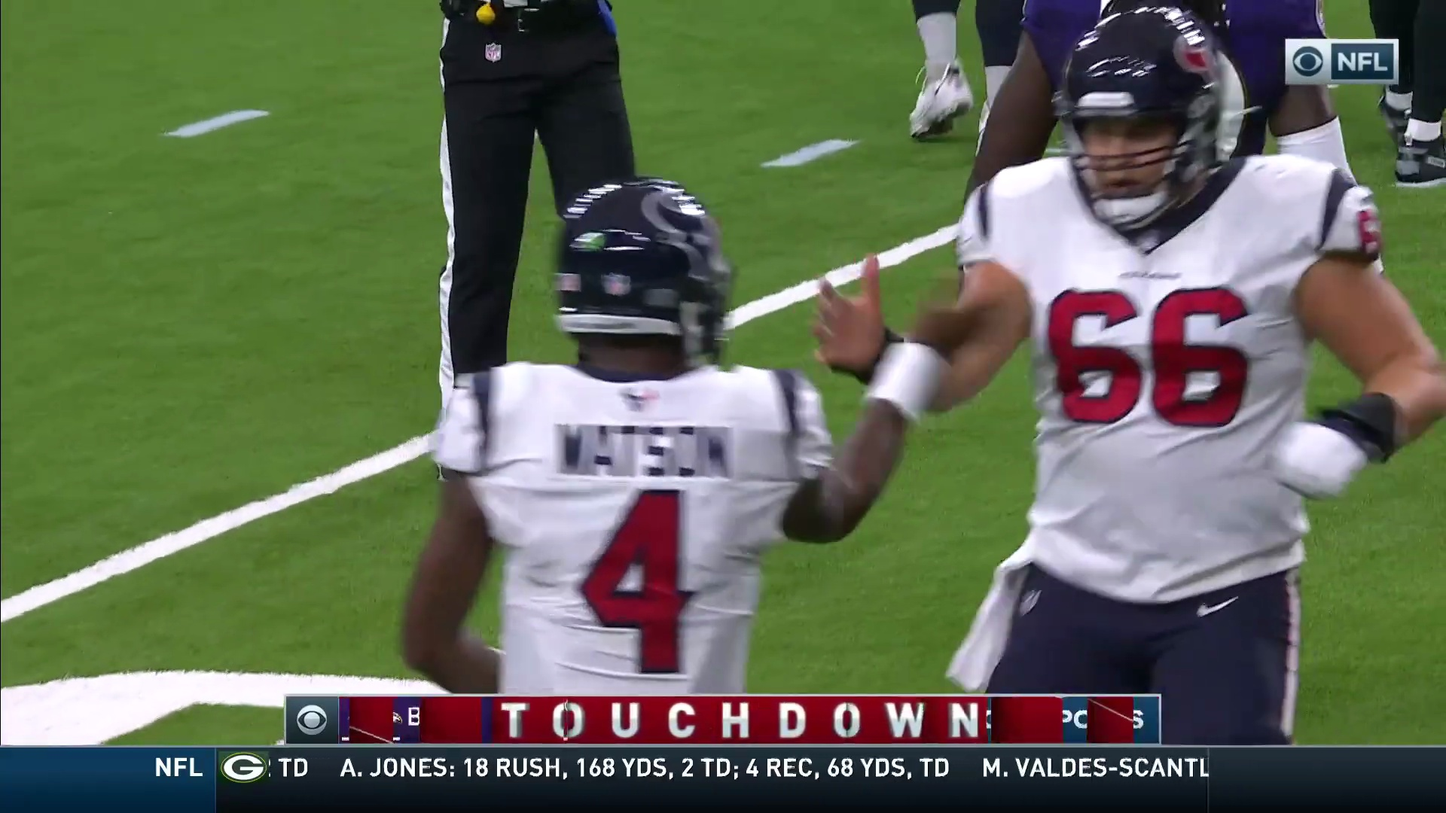Player: (411, 150, 898, 685), (948, 58, 1400, 595), (910, 0, 972, 136)
